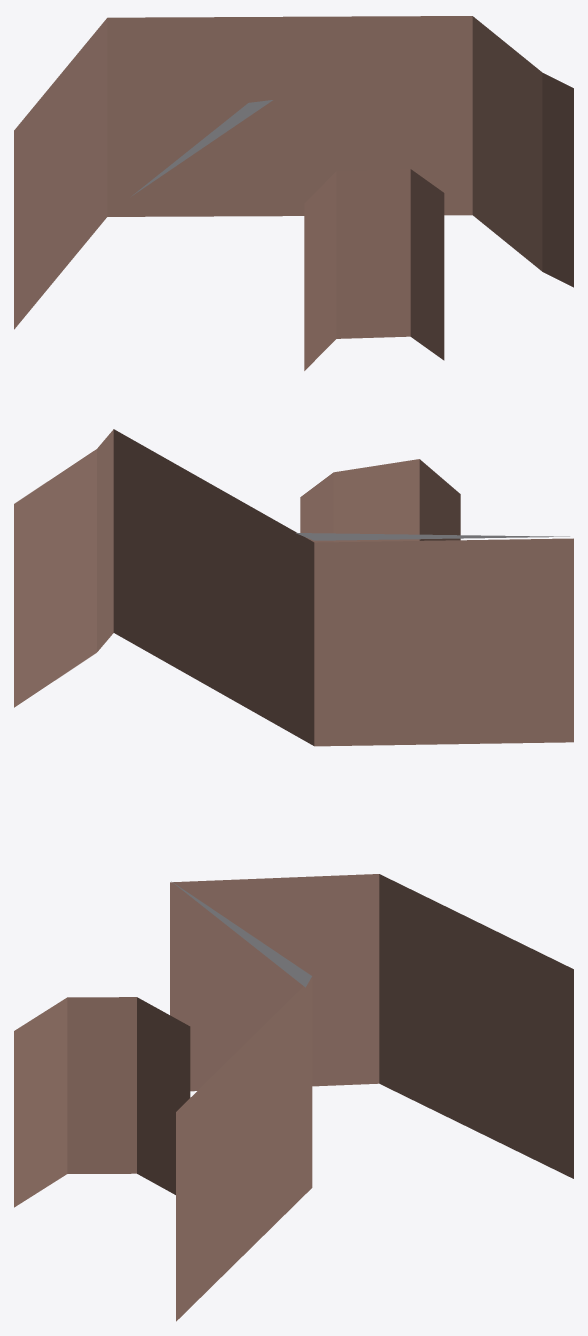
Rendered from c_1641_17832_buildings_residential.glb.
3 renders of one model, top to bottom at view 1: azimuth 30°, elevation 25°; view 2: azimuth 150°, elevation 25°; view 3: azimuth 270°, elevation 25°, orthographic. The views are drawn at different scales.
Visible parts, largest first — view 1: geometry_0; view 2: geometry_0; view 3: geometry_0.
Boxes of the visible parts, <box> form: geometry_0: <box>14,16,573,370</box>; geometry_0: <box>14,429,573,746</box>; geometry_0: <box>14,874,573,1321</box>.
Size of the model in its own units: 23.12 by 9.58 by 22.98.
